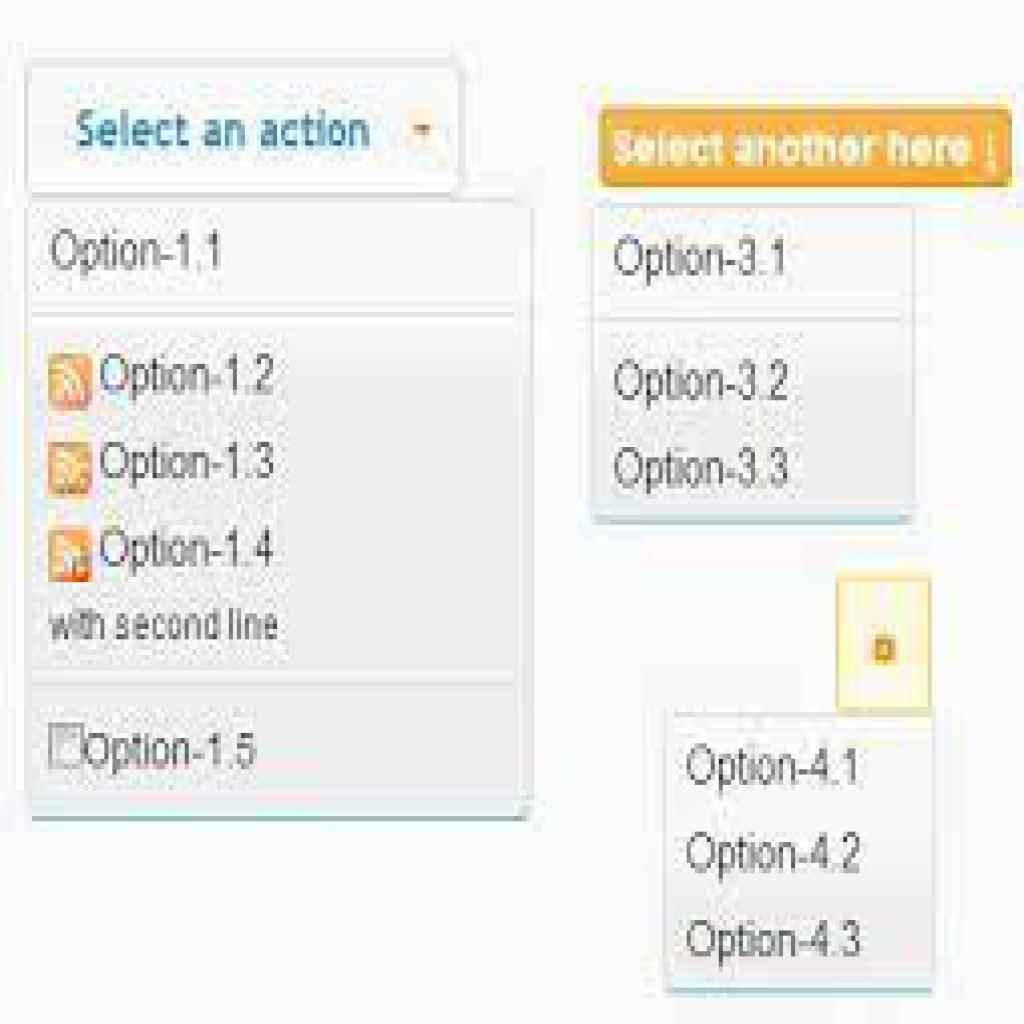button: (602, 106, 1013, 190)
checkbox: (49, 723, 84, 771)
dropdown: (26, 64, 467, 198)
